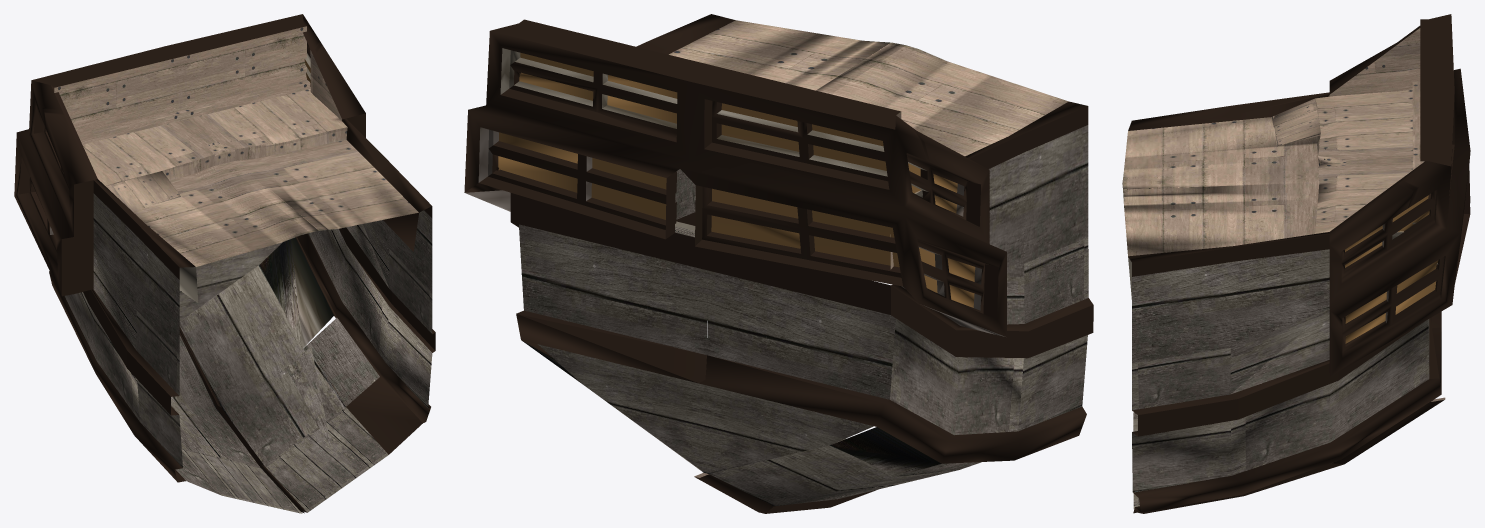
The model's file is Windward-Shipwreck5.glb.
3 renders of one model, left to right at view 1: azimuth 30°, elevation 25°; view 2: azimuth 150°, elevation 25°; view 3: azimuth 270°, elevation 25°, orthographic. The views are drawn at different scales.
Visible parts, largest first — view 1: Plane.002; view 2: Plane.002; view 3: Plane.002.
Boxes of the visible parts, x1=… form: Plane.002: x1=14, y1=14, x2=435, y2=513; Plane.002: x1=464, y1=14, x2=1093, y2=513; Plane.002: x1=1122, y1=14, x2=1470, y2=513.
Size of the model in its own units: 3.77 by 4.19 by 3.13.
4 materials, 2 textured.
